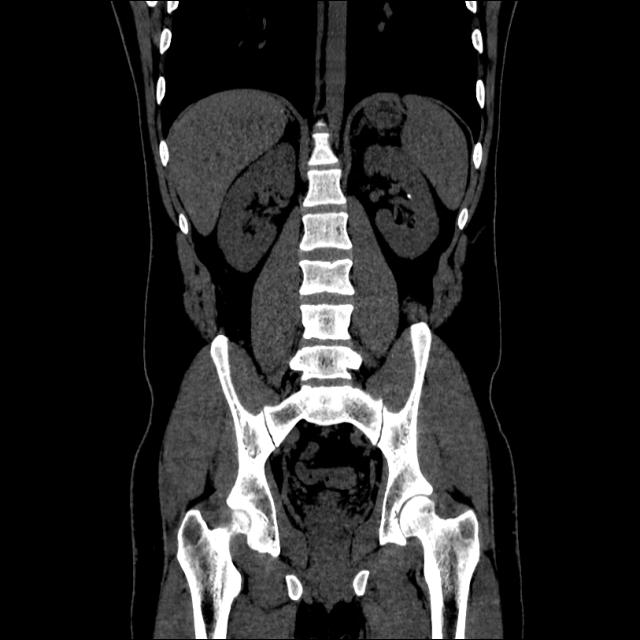kidney: (213, 138, 303, 278), (359, 134, 440, 260)
stone: (406, 190, 412, 200)
